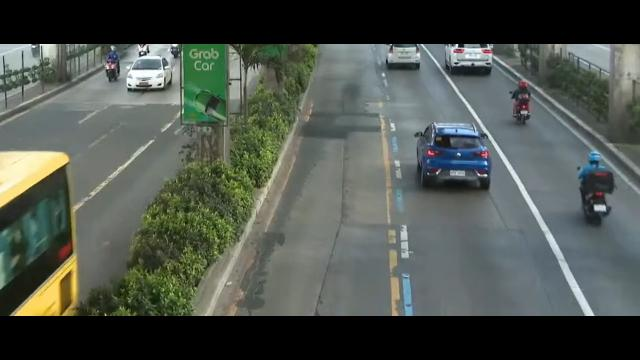bus: (0, 144, 96, 316)
car: (416, 123, 492, 192), (125, 56, 173, 92), (445, 45, 493, 75), (386, 47, 423, 77)
motorcycle: (577, 153, 615, 223), (509, 80, 534, 126), (105, 45, 120, 82), (137, 43, 151, 56)
